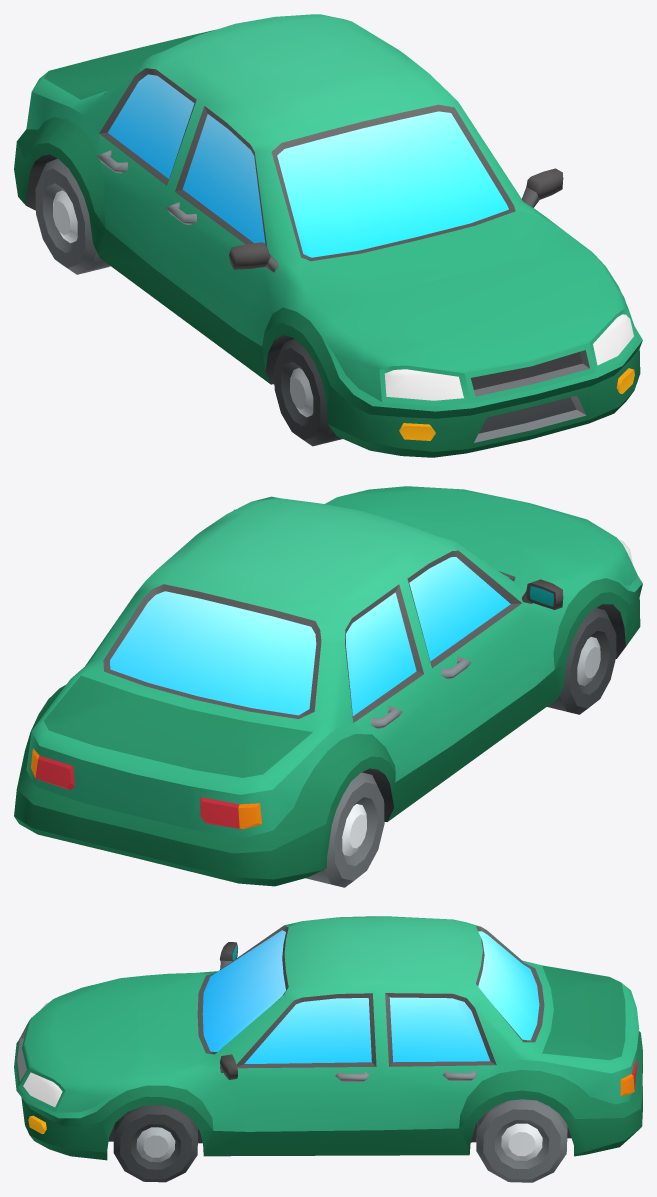
Rendered from city2-car-28.glb.
3 renders of one model, top to bottom at view 1: azimuth 30°, elevation 25°; view 2: azimuth 150°, elevation 25°; view 3: azimuth 270°, elevation 25°, orthographic. The views are drawn at different scales.
Parts seen in each view (by area): view 1: Car_28, Wheel_106, Wheel_105; view 2: Car_28, Wheel_106, Wheel_105; view 3: Car_28, Wheel_108, Wheel_107.
Boxes of the visible parts, <box> form: Car_28: <box>14,14,642,457</box>; Wheel_106: <box>35,158,110,274</box>; Wheel_105: <box>274,339,342,446</box>; Car_28: <box>14,486,642,886</box>; Wheel_106: <box>305,772,384,887</box>; Wheel_105: <box>547,608,616,714</box>; Car_28: <box>14,916,642,1160</box>; Wheel_108: <box>476,1099,567,1182</box>; Wheel_107: <box>113,1105,197,1182</box>.
Size of the model in its own units: 2.44 by 1.7 by 5.17.
Materials: 2 (2 with a texture image).
